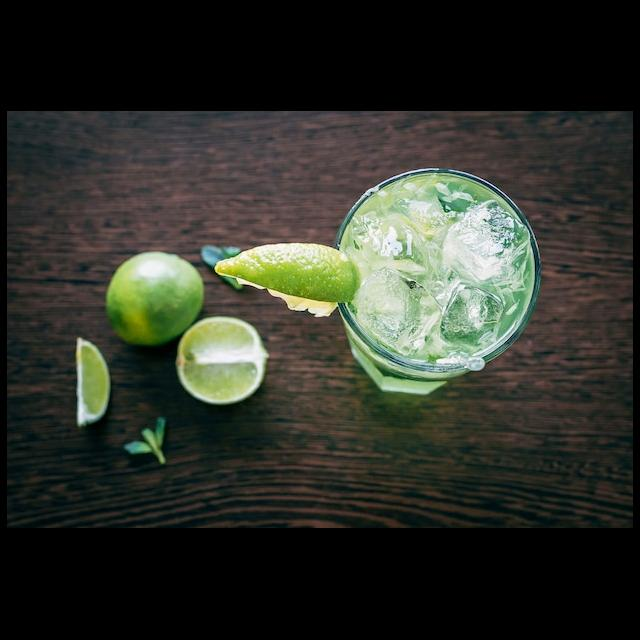lime: (104, 245, 205, 353)
